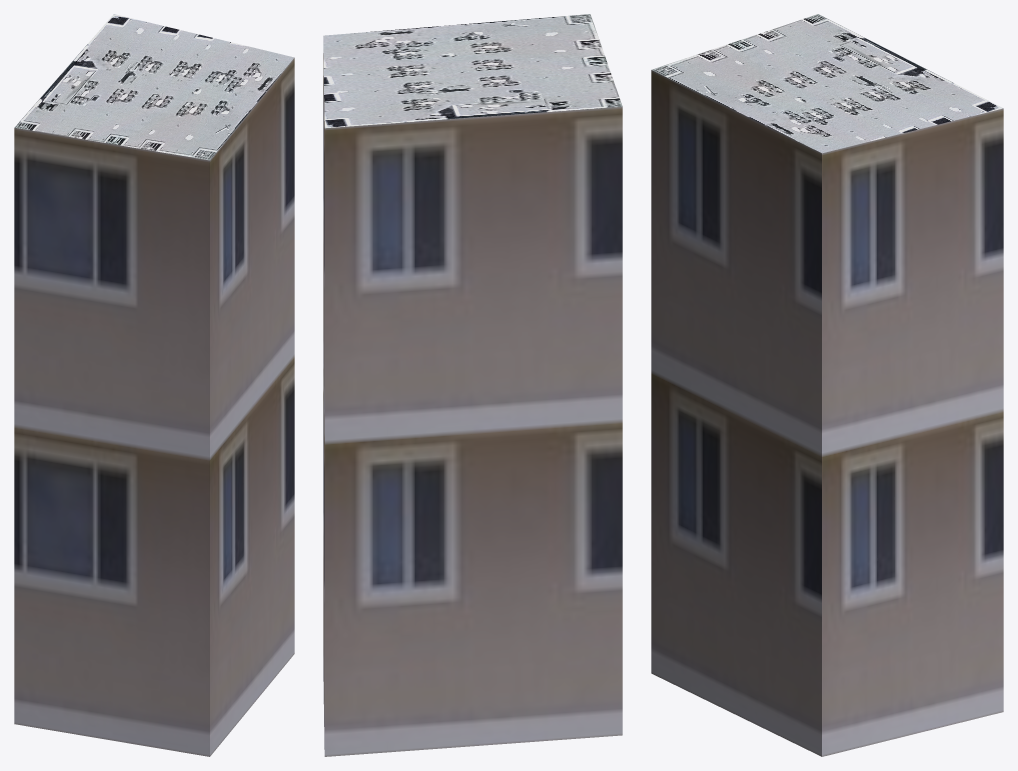
Rendered from ResTex__2488.fbx.
3 renders of one model, left to right at view 1: azimuth 30°, elevation 25°; view 2: azimuth 150°, elevation 25°; view 3: azimuth 270°, elevation 25°, orthographic. The views are drawn at different scales.
Visible parts, largest first — view 1: CityEngineMaterial_21_m, CityEngineMaterial_4_m; view 2: CityEngineMaterial_21_m, CityEngineMaterial_4_m; view 3: CityEngineMaterial_21_m, CityEngineMaterial_4_m.
Boxes of the visible parts, bbox=[...] form: CityEngineMaterial_21_m: bbox=[14, 58, 294, 756]; CityEngineMaterial_4_m: bbox=[14, 14, 294, 160]; CityEngineMaterial_21_m: bbox=[323, 53, 622, 756]; CityEngineMaterial_4_m: bbox=[323, 14, 622, 128]; CityEngineMaterial_21_m: bbox=[651, 70, 1003, 756]; CityEngineMaterial_4_m: bbox=[651, 14, 1003, 153].
Size of the model in its own units: 2.97 by 6 by 3.18.
Materials: 2 (2 with a texture image).
